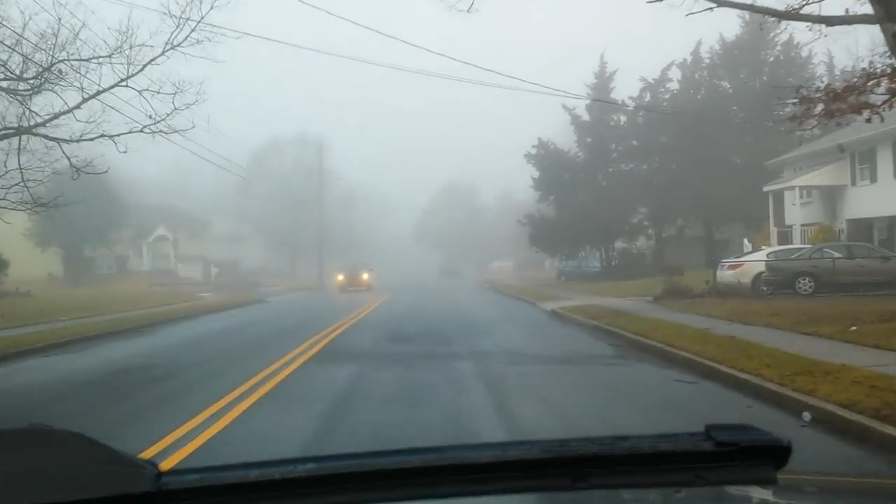car: (759, 239, 896, 300), (714, 242, 860, 298), (554, 256, 609, 284), (333, 261, 373, 291)
